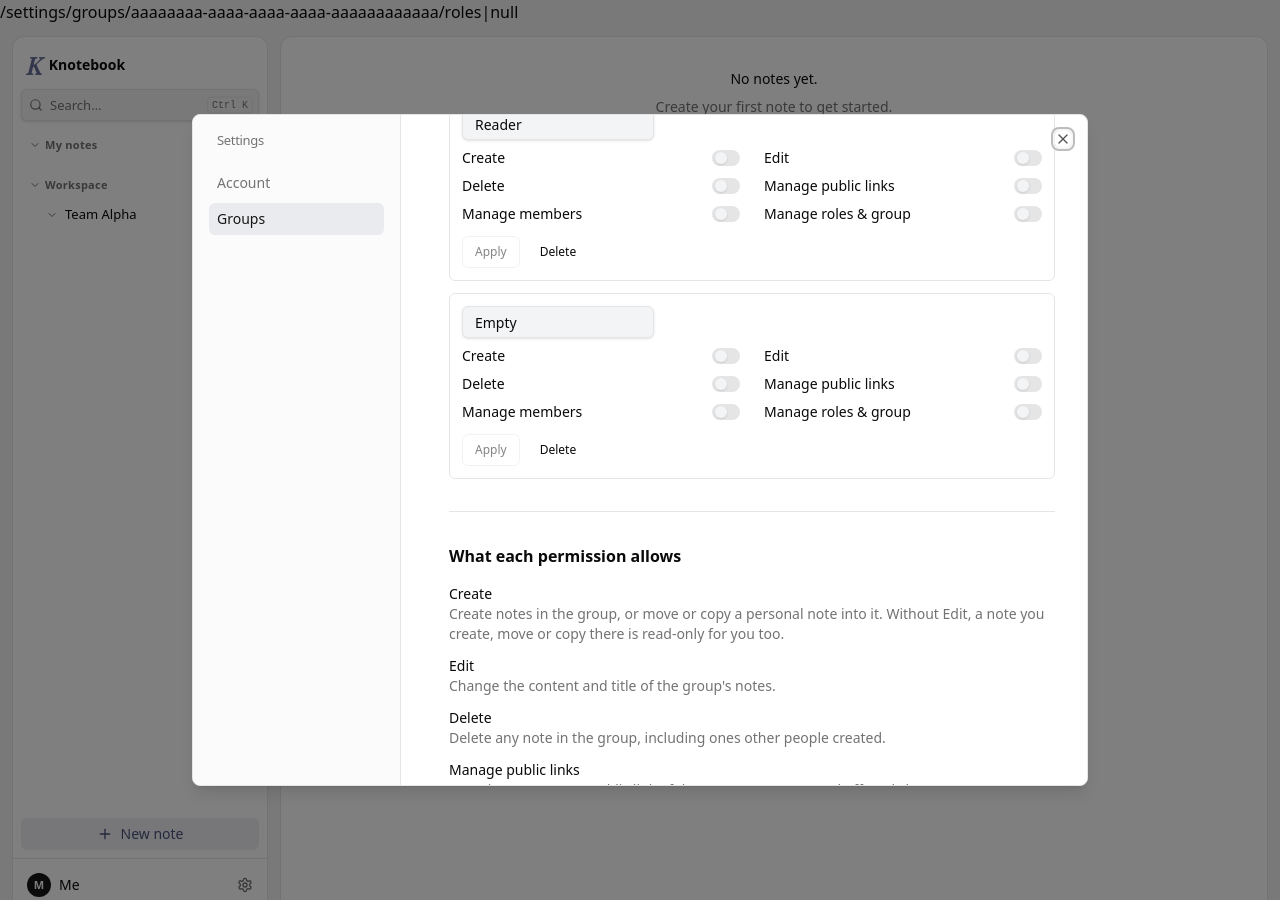
Test: SettingsGroupRolesSection（/settings/groups/:id/roles，spec §8.5） › 6 刪除：ghost 鈕開確認對話框（人數說明、destructive 確認）→ DELETE → 重抓後只剩兩個區塊；沒人掛的角色說明是 descriptionEmpty
(page scrolled)
Expected: the element named "Empty" is shown, [449, 293, 1055, 479]
# memberCount 0 → descriptionEmpty；取消不送任何東西。
Click the button with aria-label "Delete Empty" at (558, 450), box [528, 434, 588, 466]
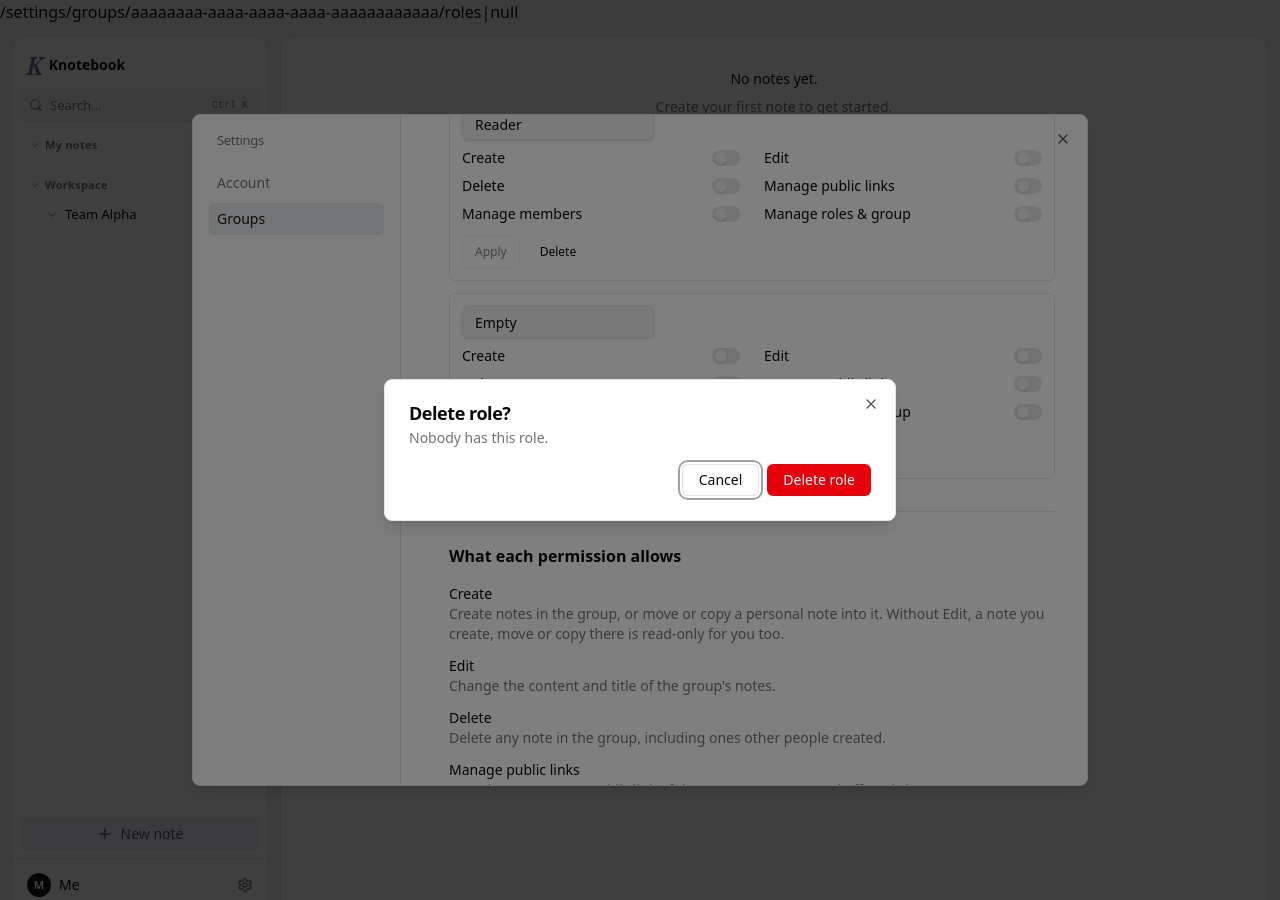
Expected: the dialog "Delete role?" shows "Nobody has this role.", [409, 428, 548, 447]
Click the button "Cancel" at (720, 480), box [682, 464, 759, 496]
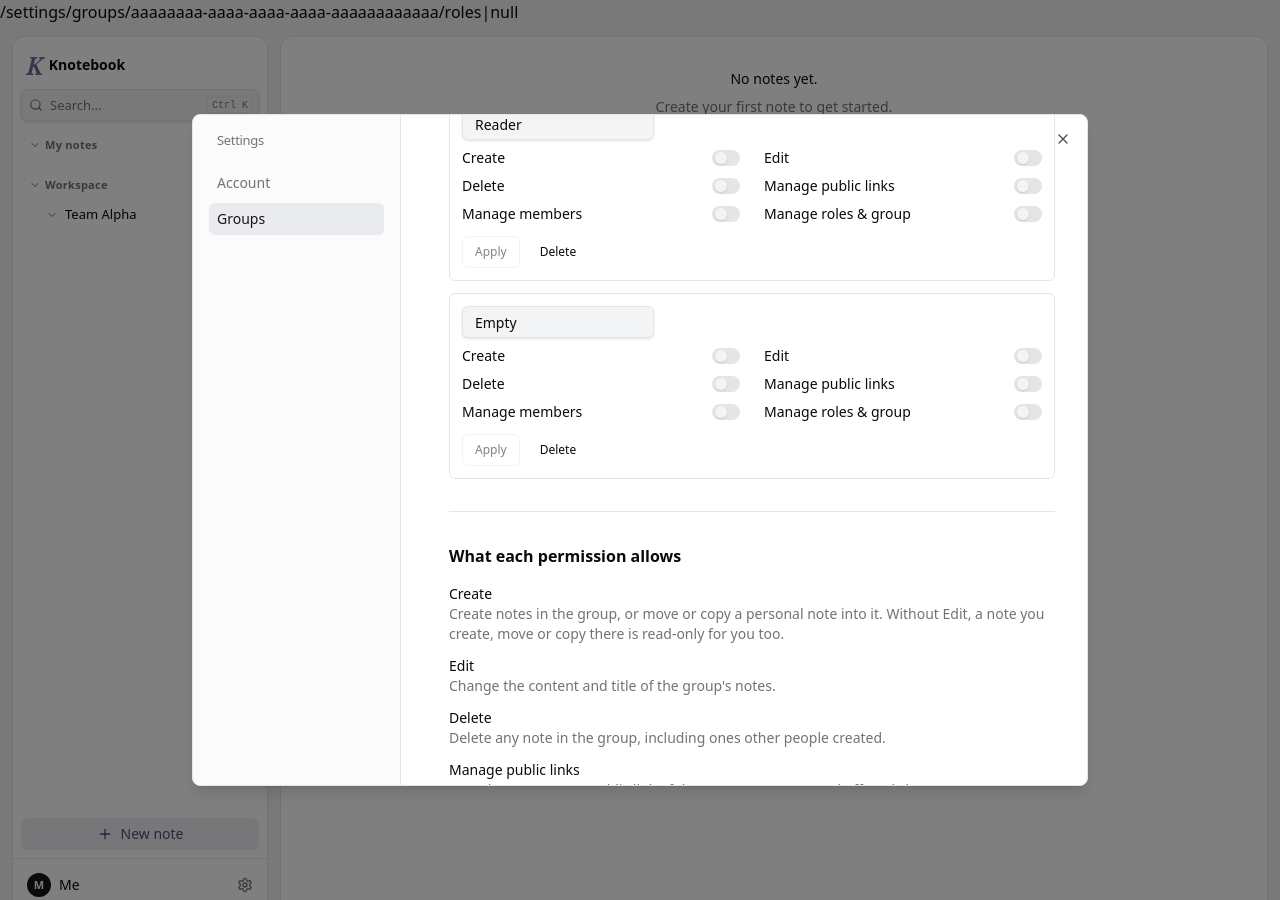
Expected: the heading "Delete role?" is gone
Click the button with aria-label "Delete Reader" at (558, 252), box [528, 236, 588, 268]
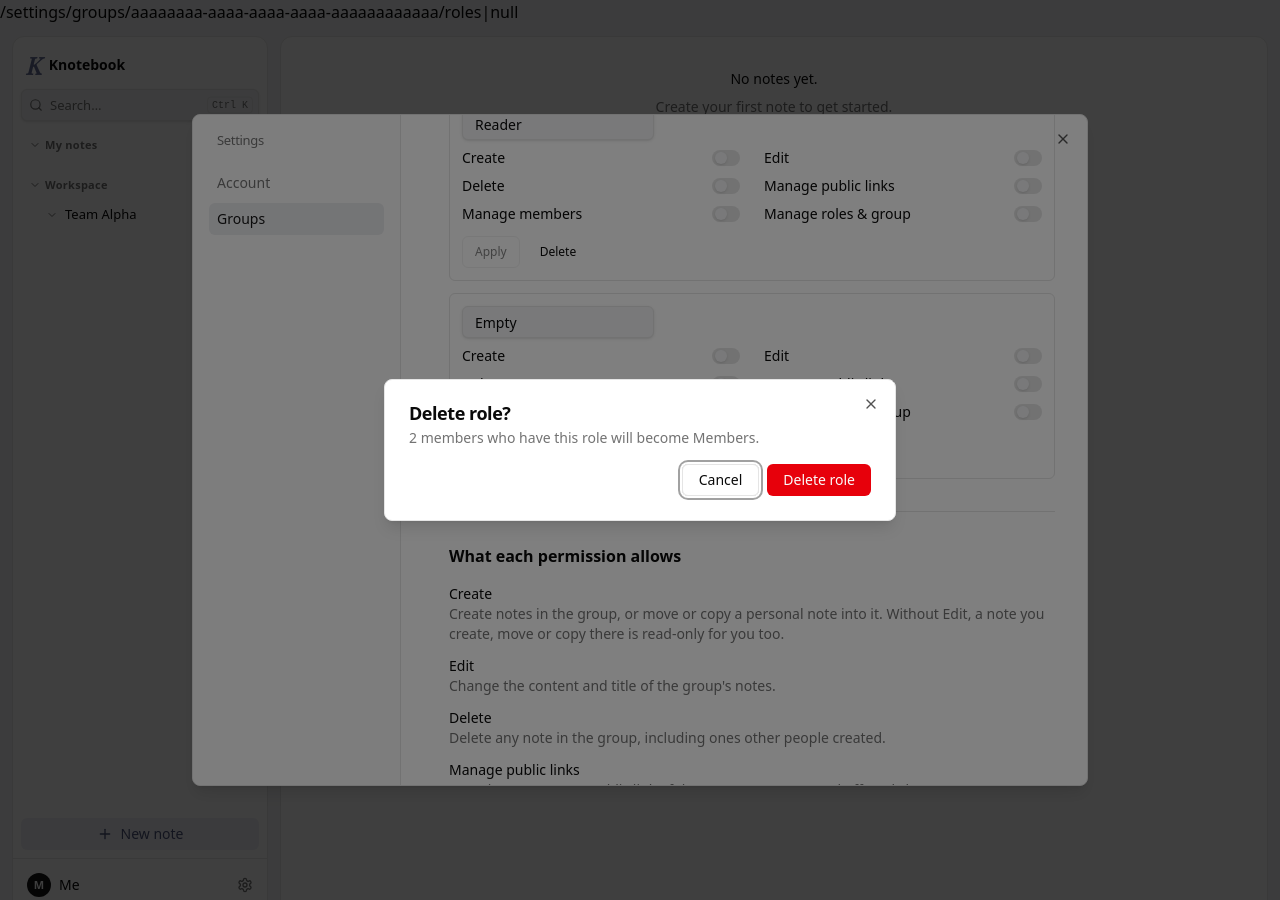
Expected: the dialog "Delete role?" shows "2 members who have this role will become Members.", [409, 428, 759, 447]
Click the button "Delete role" at (819, 480), box [767, 464, 871, 496]
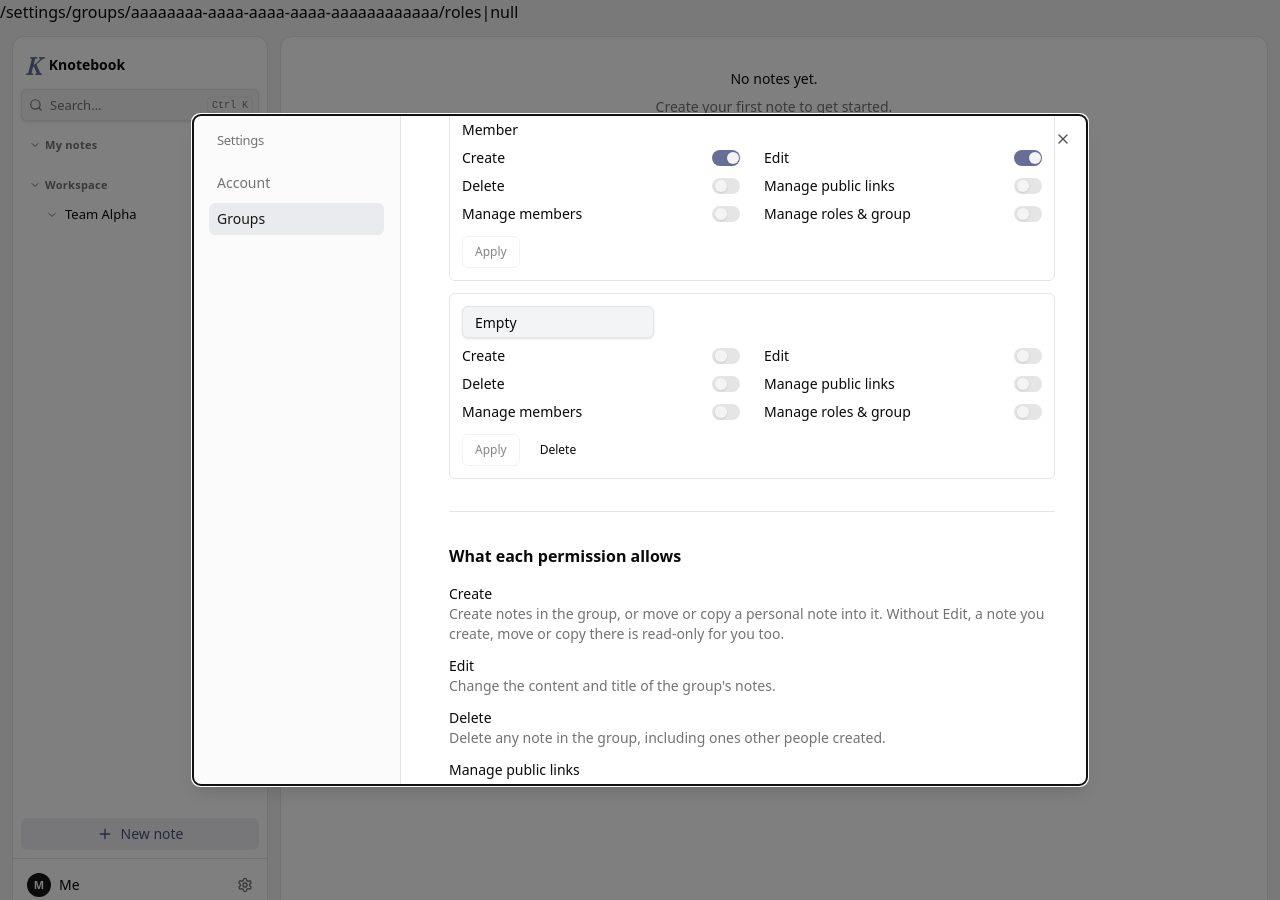
Expected: the element "Member" is shown, [449, 115, 1055, 281]
Expected: the field labelled "Reader" is gone
Expected: the heading "Delete role?" is gone
